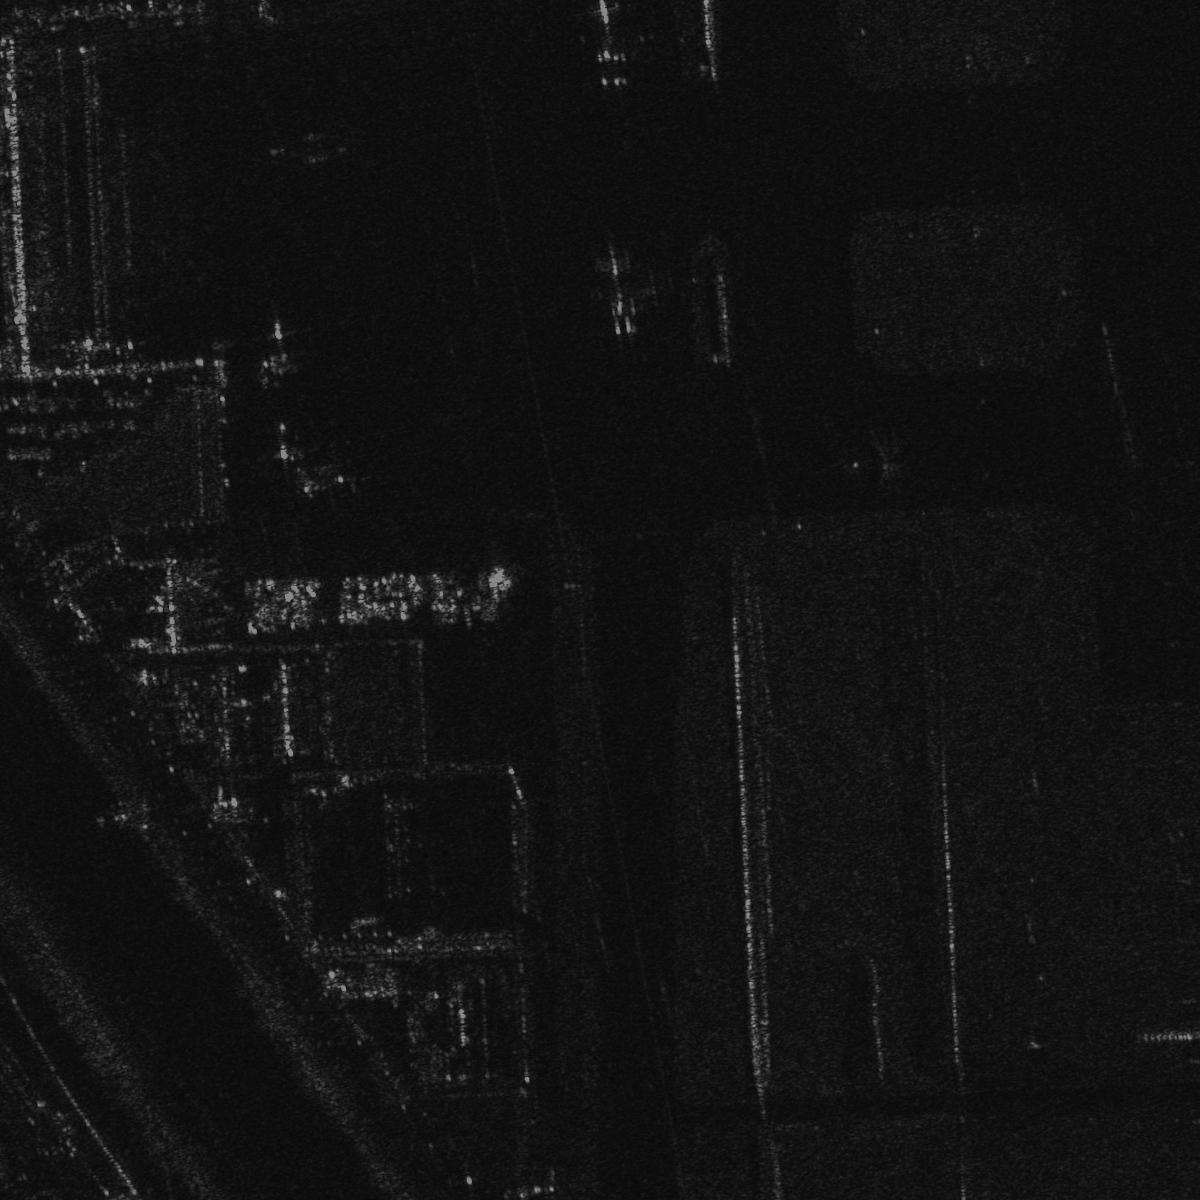A220: (251, 318, 302, 375), (262, 419, 307, 473)
other: (562, 251, 675, 335), (284, 469, 349, 503)
